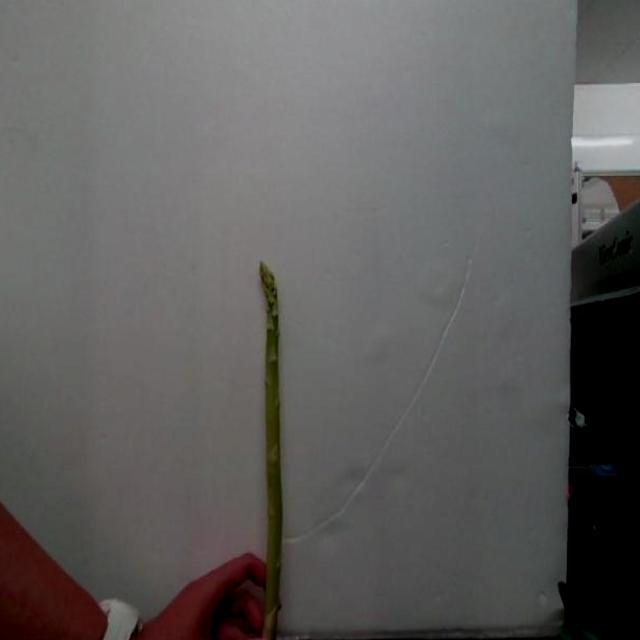aspargus: (258, 265, 285, 640)
